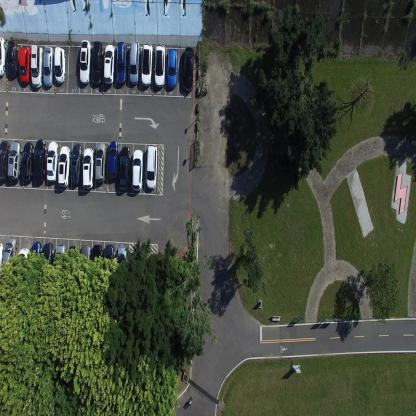car: (2, 236, 18, 284), (7, 141, 22, 181), (91, 40, 104, 86), (41, 241, 54, 287), (57, 143, 70, 187), (30, 44, 43, 88), (53, 243, 66, 287), (146, 143, 158, 190), (182, 46, 194, 92), (79, 39, 91, 85), (103, 244, 115, 290), (91, 243, 103, 289), (18, 247, 30, 293), (140, 41, 152, 86), (131, 147, 143, 192), (128, 41, 140, 86), (34, 138, 46, 183), (30, 241, 42, 286), (6, 39, 19, 80), (21, 142, 34, 183), (118, 144, 129, 192), (82, 146, 94, 190), (79, 244, 91, 288), (18, 44, 31, 84), (94, 141, 106, 184), (67, 243, 79, 286), (103, 43, 115, 84), (70, 144, 82, 185), (116, 41, 127, 85), (166, 48, 178, 88), (43, 44, 54, 87), (54, 46, 66, 84), (46, 140, 57, 181), (154, 42, 164, 87), (107, 140, 118, 180), (0, 140, 10, 182), (117, 246, 127, 286), (0, 36, 6, 76), (0, 242, 4, 288)
